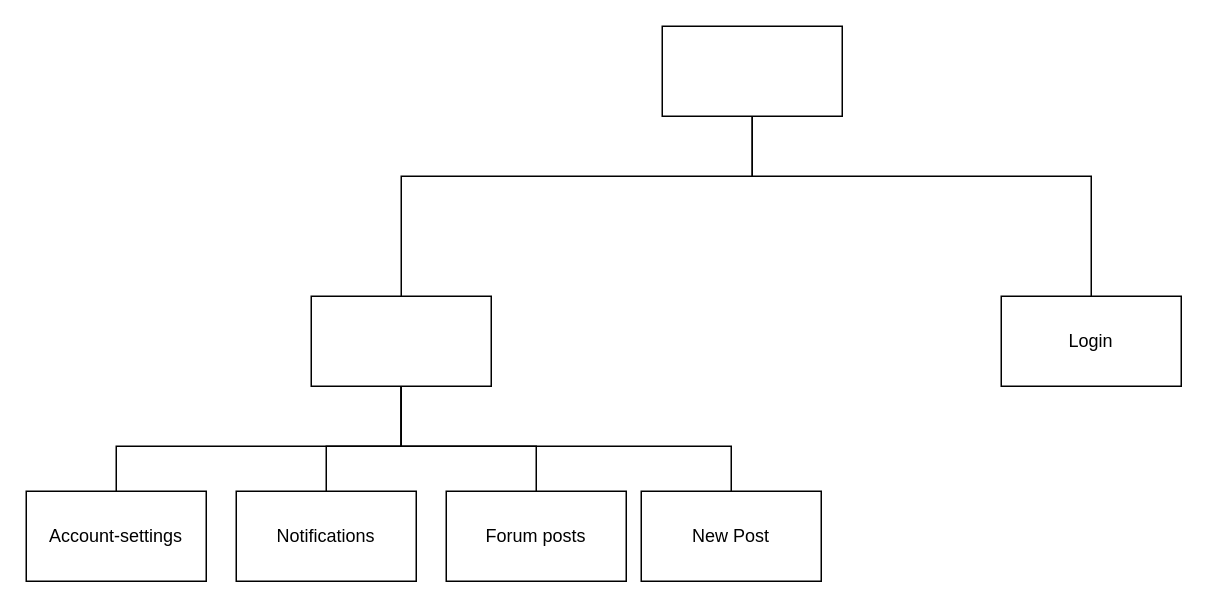
The diagram is 1208 pixels wide and 608 high, and some of its shapes have lost their labels. The centre of each missing label's shape, as x and y in pixels:
"Forum" goes at [400,340].
"Index" goes at [751,70].
